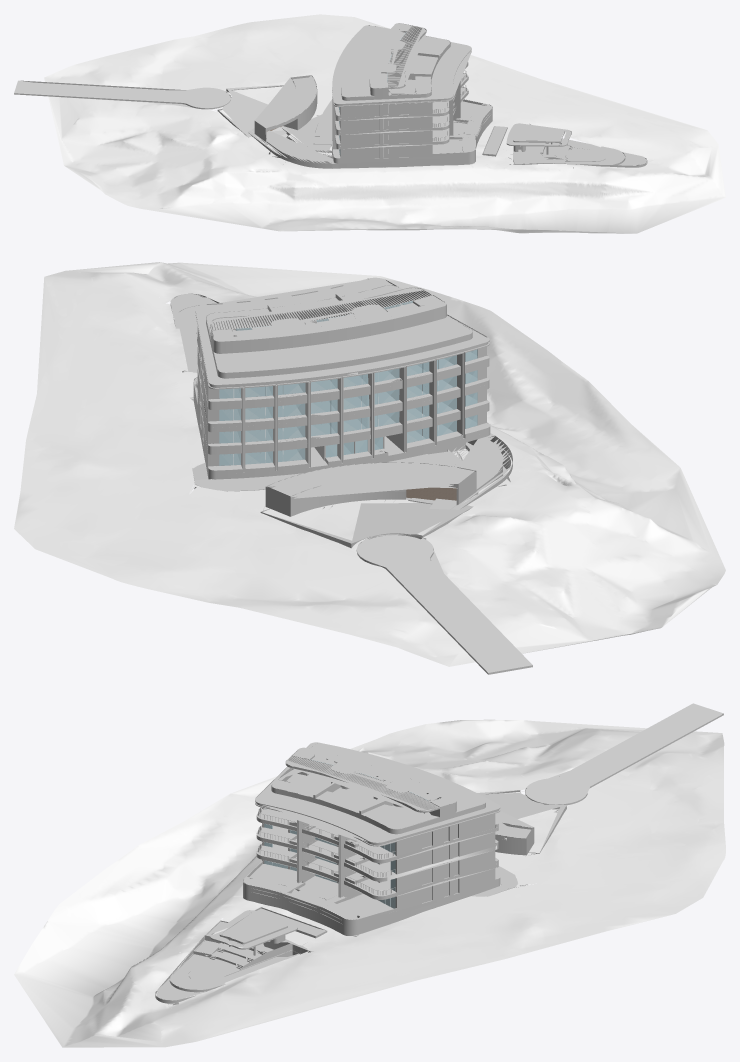
The model's file is prueba02.glb.
3 views of the same model, one above another, from view 1: azimuth 30°, elevation 25°; view 2: azimuth 150°, elevation 25°; view 3: azimuth 270°, elevation 25° (orthographic). The views are drawn at different scales.
Parts seen in each view (by area): view 1: TOPOGRAFÍA, Layer0, LOSAS ENTREPISO, MUROS 40, GLORIETA, ALBERCA, MURETE, PERGOLA, LOSA, AREAS VERDES, MUROS INTERNOS; view 2: TOPOGRAFÍA, Layer0, LOSAS ENTREPISO, VENTANAS, GLORIETA, JARDINERAS, MURETE, MUROS INTERNOS, CARTELAS, PERGOLA, LOSA, MUROS 40 (+2 smaller); view 3: TOPOGRAFÍA, Layer0, LOSAS ENTREPISO, MUROS 40, GLORIETA, ALBERCA, PERGOLA, MURETE, LOSA, MUROS INTERNOS, VENTANAS, CAMINO.
Boxes of the visible parts, bbox=[...] form: TOPOGRAFÍA: bbox=[44, 14, 725, 233]; Layer0: bbox=[217, 39, 647, 168]; LOSAS ENTREPISO: bbox=[332, 25, 492, 163]; MUROS 40: bbox=[340, 52, 456, 160]; GLORIETA: bbox=[14, 80, 231, 109]; ALBERCA: bbox=[388, 35, 492, 155]; MURETE: bbox=[341, 26, 389, 100]; PERGOLA: bbox=[387, 25, 426, 88]; LOSA: bbox=[369, 25, 407, 89]; AREAS VERDES: bbox=[282, 114, 331, 155]; MUROS INTERNOS: bbox=[340, 23, 412, 156]; TOPOGRAFÍA: bbox=[14, 262, 725, 666]; Layer0: bbox=[170, 293, 512, 548]; LOSAS ENTREPISO: bbox=[193, 277, 490, 478]; VENTANAS: bbox=[219, 301, 477, 465]; GLORIETA: bbox=[356, 533, 532, 674]; JARDINERAS: bbox=[208, 355, 490, 474]; MURETE: bbox=[213, 315, 472, 378]; MUROS INTERNOS: bbox=[210, 295, 484, 466]; CARTELAS: bbox=[241, 352, 464, 472]; PERGOLA: bbox=[210, 287, 432, 331]; LOSA: bbox=[211, 301, 446, 343]; MUROS 40: bbox=[197, 293, 486, 468]; TOPOGRAFÍA: bbox=[14, 719, 725, 1047]; Layer0: bbox=[155, 757, 566, 1005]; LOSAS ENTREPISO: bbox=[243, 742, 500, 926]; MUROS 40: bbox=[262, 782, 495, 910]; GLORIETA: bbox=[525, 703, 723, 805]; ALBERCA: bbox=[243, 767, 439, 922]; PERGOLA: bbox=[285, 756, 439, 812]; MURETE: bbox=[310, 743, 485, 817]; LOSA: bbox=[291, 750, 456, 808]; MUROS INTERNOS: bbox=[288, 747, 456, 900]; VENTANAS: bbox=[264, 759, 427, 908]; CAMINO: bbox=[265, 866, 517, 953].
Size of the model in its own units: 134 by 26.85 by 124.
5 materials, 2 textured.
